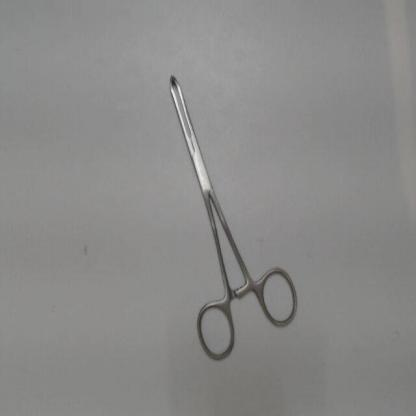Allis Tissue Forceps: (161, 64, 305, 368)
